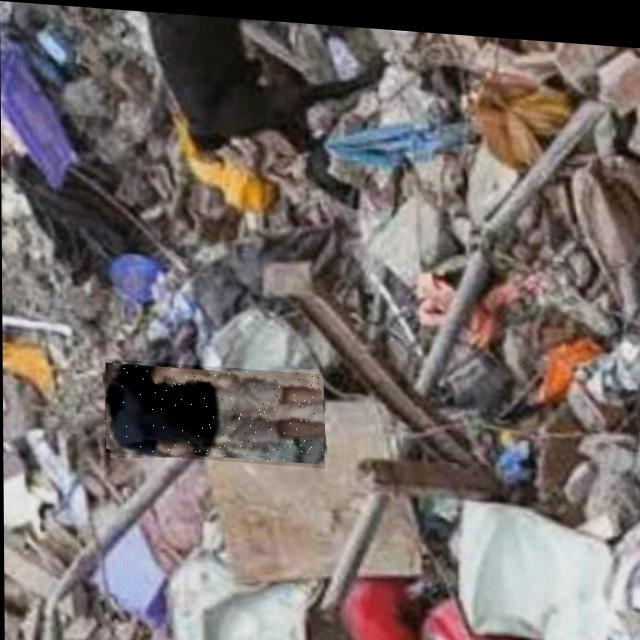Person in Rubble: (104, 356, 325, 463)
